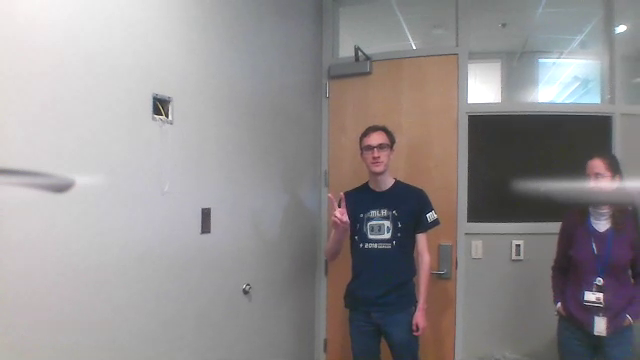peace: (321, 187, 360, 234)
